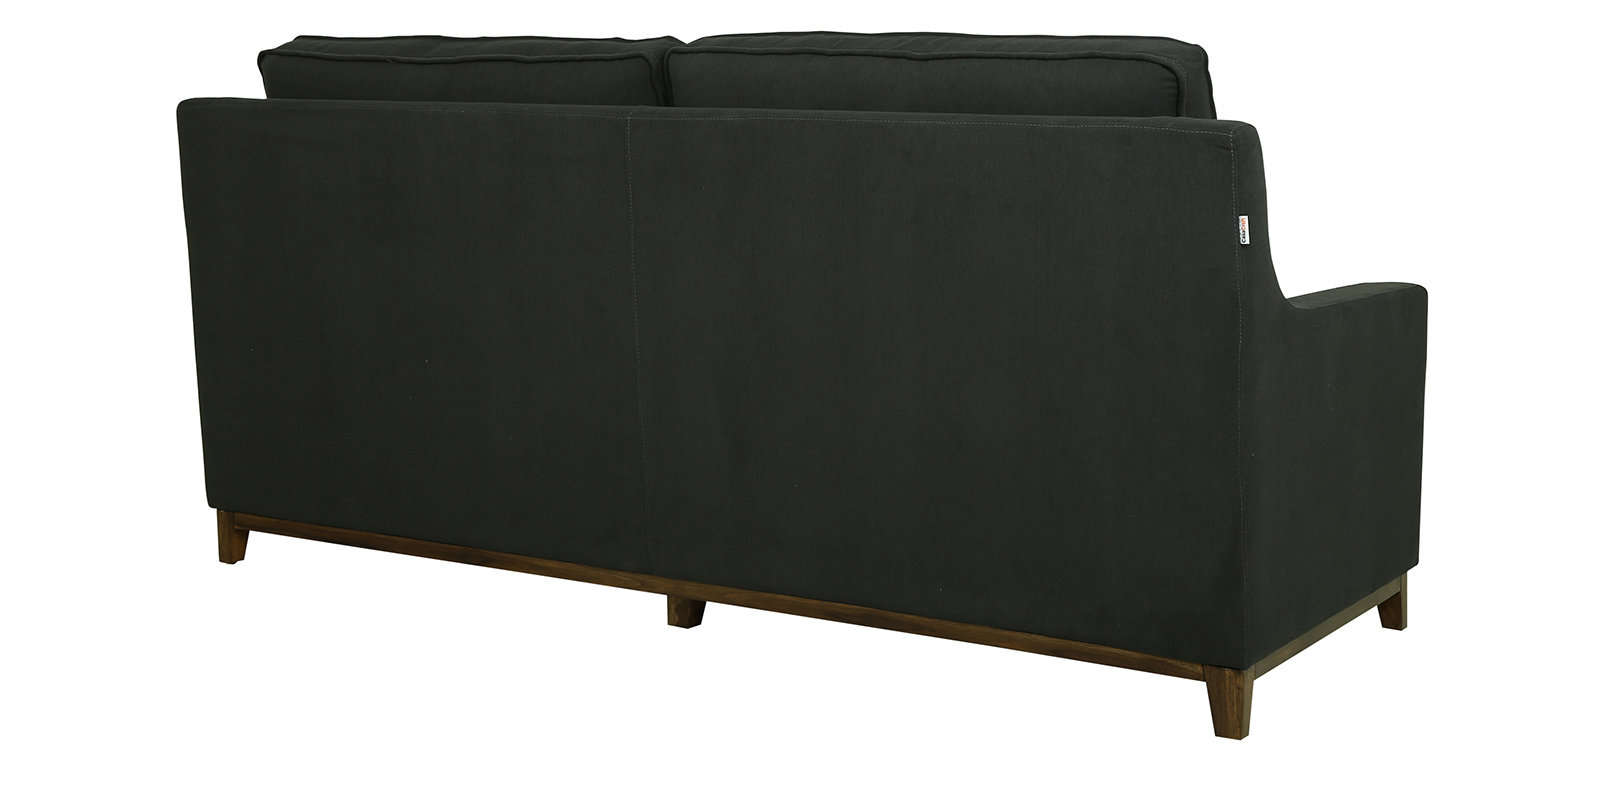Diego Three Seater Sofa in Charcoal Grey Colour by CasaCraft: (145, 23, 1445, 758)
